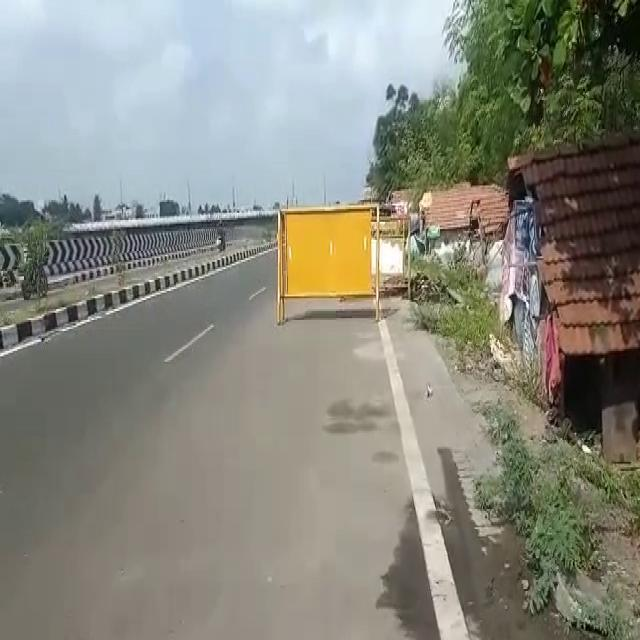fallen_object: (240, 183, 410, 341)
